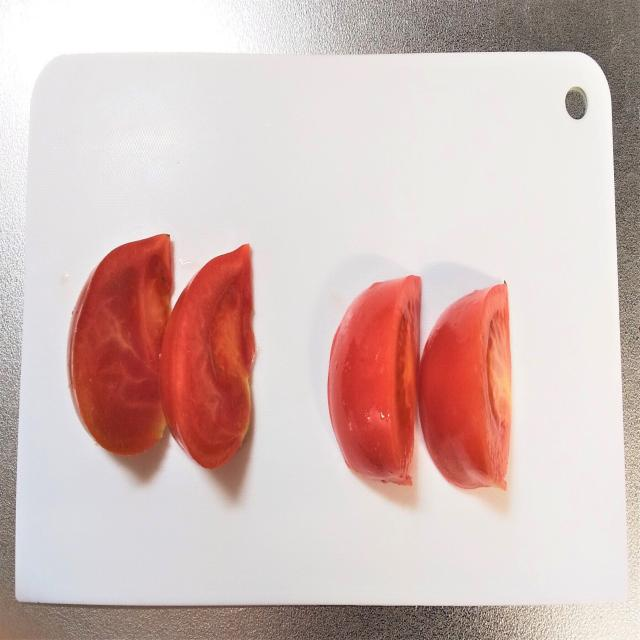Tomato: (60, 228, 174, 466), (323, 270, 426, 495), (415, 272, 513, 500), (162, 242, 256, 473)
